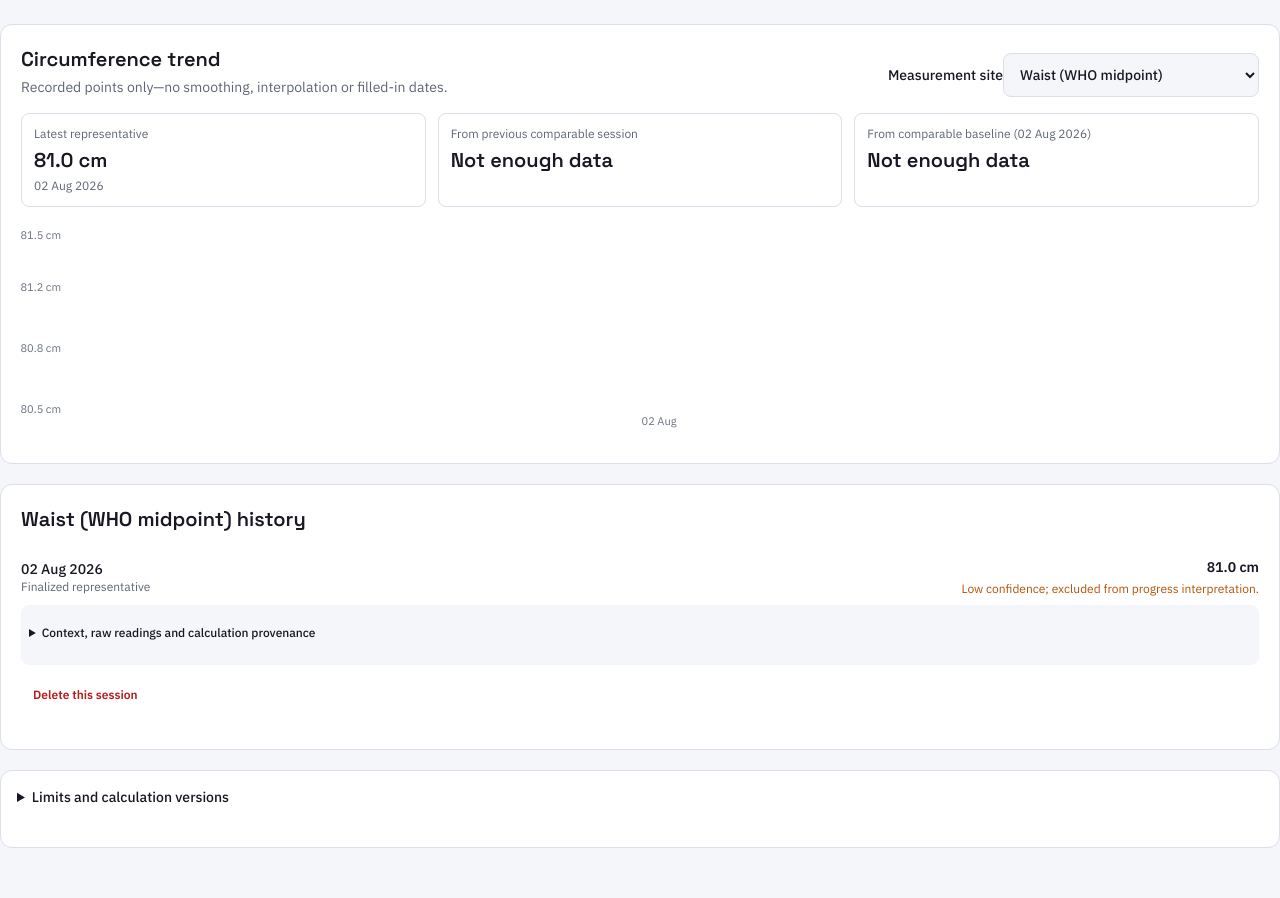
AnthropometryTrends › shows v3 quality, eligibility, selected indices, version, and expanded raw readings
Expected: the text "Low confidence; excluded from progress interpretation." is shown, top-left (962, 581), bottom-right (1259, 597)
Click the heading "Context, raw readings and calculation provenance".
click(179, 632)  # box top-left (42, 625), bottom-right (316, 640)
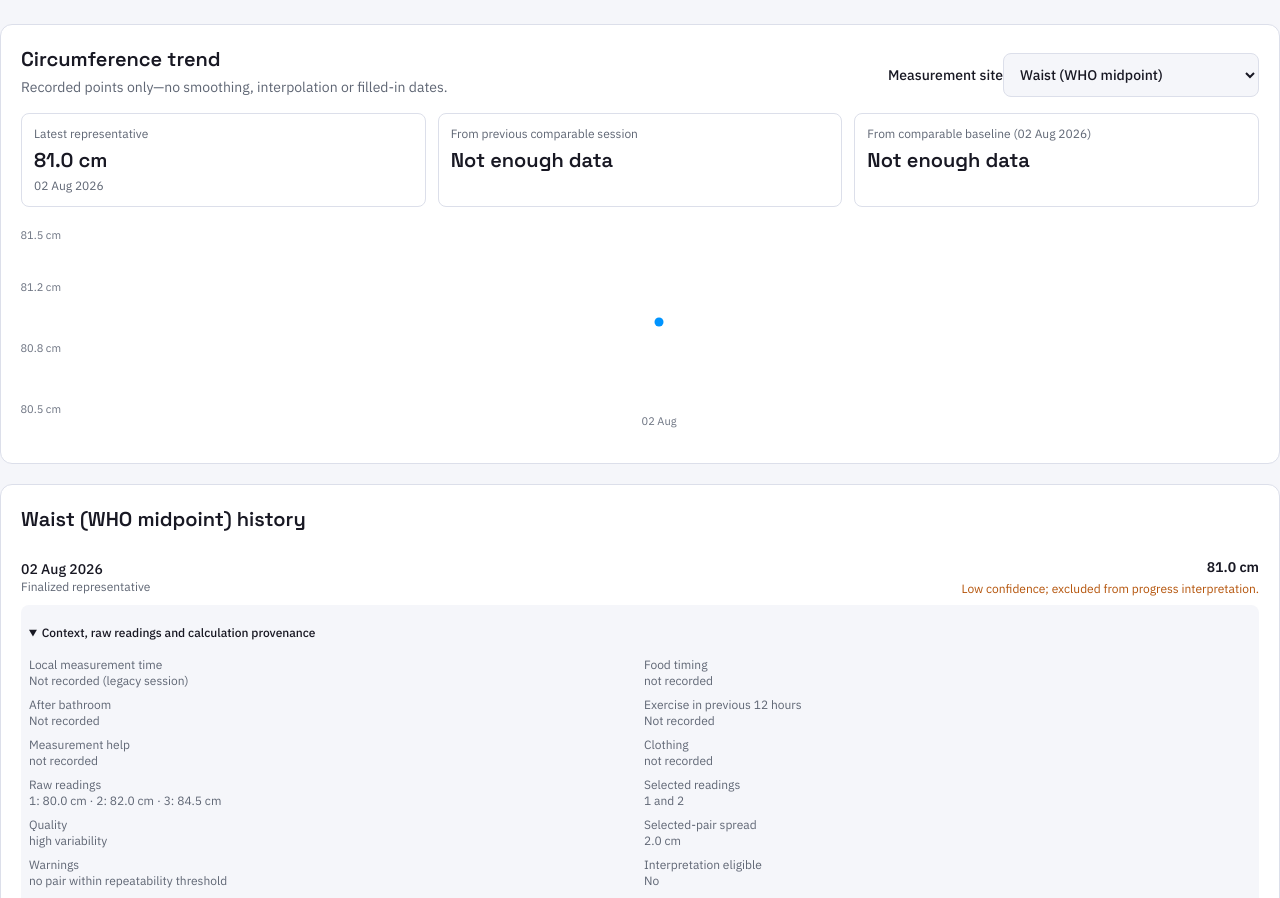
Expected: the text "1: 80.0 cm · 2: 82.0 cm · 3: 84.5 cm" is shown, top-left (29, 793), bottom-right (221, 808)
Expected: the text "1 and 2" is shown, top-left (644, 793), bottom-right (684, 808)
Expected: the text "No" is shown, top-left (644, 873), bottom-right (659, 888)
